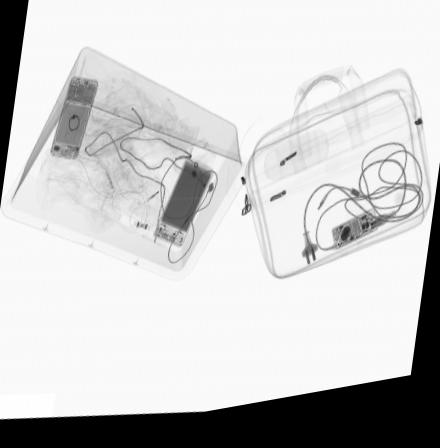Powerbank: (155, 166, 214, 254)
